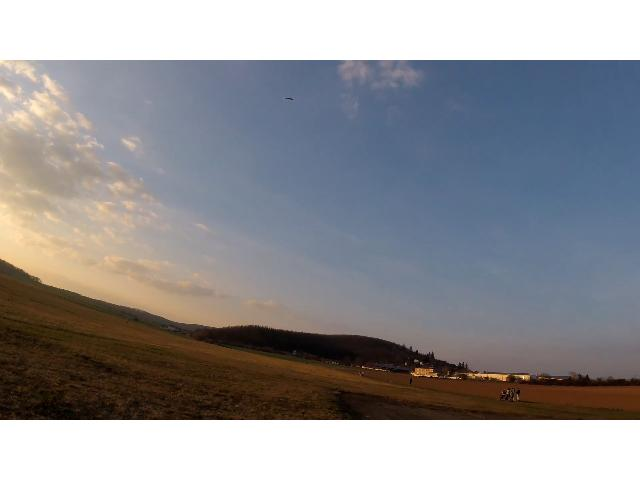Anti-Drone: (279, 89, 299, 107)
